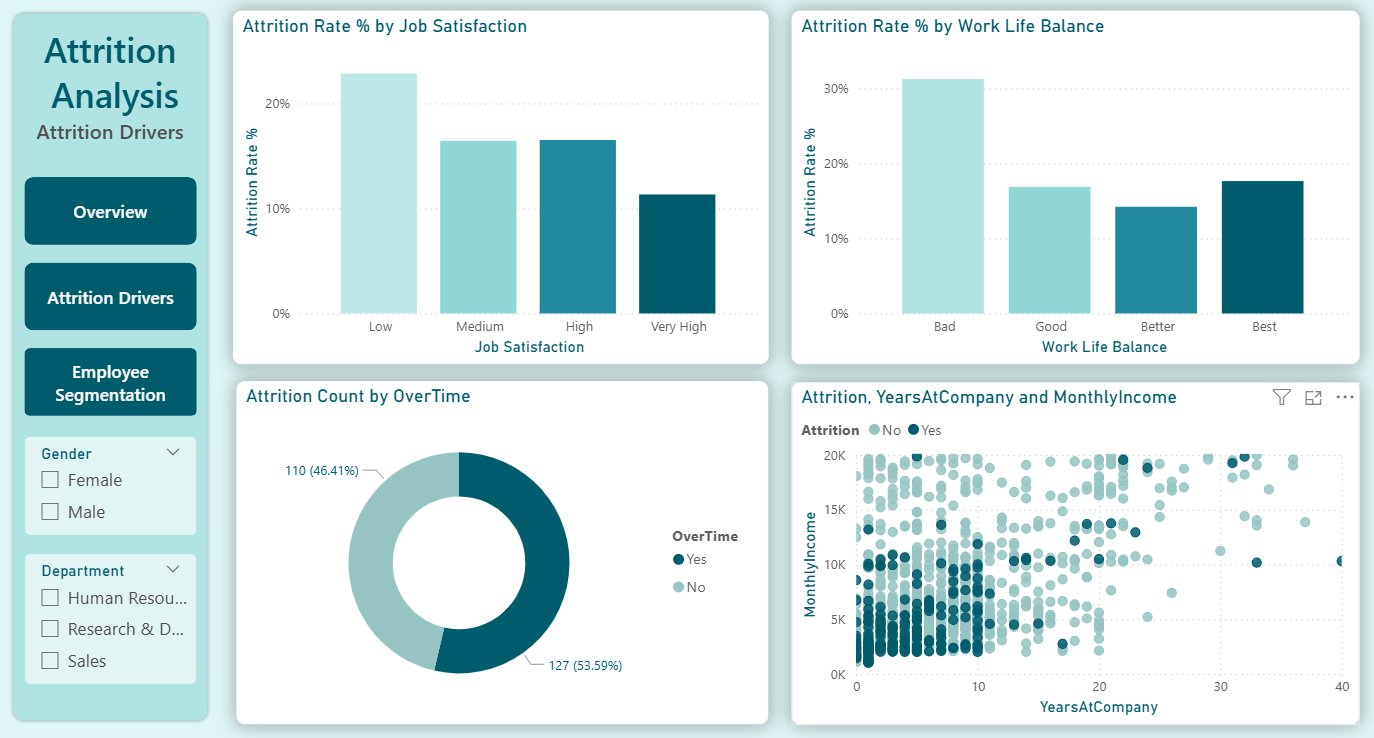

The dashboard page shown, as its layout file describes it:
{"tool":"powerbi","page":{"name":"Attrition Drivers","canvas":[1280,720],"ordinal":1},"visuals":[{"type":"shape","box":[19,34,186,658],"z":0},{"type":"clusteredColumnChart","fields":{"Category":["HR Analytics Data.Job Satisfaction Recoded"],"Y":["All measures.Attrition Rate %"]},"box":[224.3,34.3,492.9,325.7],"z":1000},{"type":"clusteredColumnChart","fields":{"Category":["HR Analytics Data.Work Life Balance Score"],"Y":["All measures.Attrition Rate %"]},"box":[738.6,34.3,522.9,325.7],"z":2000},{"type":"donutChart","fields":{"Category":["HR Analytics Data.OverTime"],"Y":["All measures.Attrition Count"]},"box":[227.9,375.7,489.3,315.7],"z":3000},{"type":"scatterChart","fields":{"Series":["HR Analytics Data.Attrition"],"X":["HR Analytics Data.YearsAtCompany"],"Y":["HR Analytics Data.MonthlyIncome"]},"box":[738.9,376.9,522.5,315],"z":4000},{"type":"textbox","box":[22.5,42.5,178.8,130],"z":5000},{"type":"actionButton","box":[32.5,187.5,158.8,62.5],"z":6000},{"type":"actionButton","box":[32.5,266.2,158.8,62.5],"z":7000},{"type":"actionButton","box":[32.5,345,158.8,62.5],"z":8000},{"type":"slicer","fields":{"Values":["HR Analytics Data.Gender"]},"box":[32.5,426.2,158.8,92.5],"z":9000},{"type":"slicer","fields":{"Values":["HR Analytics Data.Department"]},"box":[32.5,533.8,158.8,121.2],"z":10000}]}

Visuals, with their boxes on the page's 1280x720 design canvas (x1, y1, x2, y2). These are canvas units, not pixel positions in the 1374x738 screenshot, which may show the page scaled, cropped or inside an application window:
shape: {"x1": 19, "y1": 34, "x2": 205, "y2": 692}
clusteredColumnChart - HR Analytics Data.Job Satisfaction Recoded x All measures.Attrition Rate %: {"x1": 224, "y1": 34, "x2": 717, "y2": 360}
clusteredColumnChart - HR Analytics Data.Work Life Balance Score x All measures.Attrition Rate %: {"x1": 739, "y1": 34, "x2": 1262, "y2": 360}
donutChart - HR Analytics Data.OverTime x All measures.Attrition Count: {"x1": 228, "y1": 376, "x2": 717, "y2": 691}
scatterChart - HR Analytics Data.Attrition x HR Analytics Data.YearsAtCompany: {"x1": 739, "y1": 377, "x2": 1261, "y2": 692}
textbox: {"x1": 22, "y1": 42, "x2": 201, "y2": 172}
actionButton: {"x1": 32, "y1": 188, "x2": 191, "y2": 250}
actionButton: {"x1": 32, "y1": 266, "x2": 191, "y2": 329}
actionButton: {"x1": 32, "y1": 345, "x2": 191, "y2": 408}
slicer - HR Analytics Data.Gender: {"x1": 32, "y1": 426, "x2": 191, "y2": 519}
slicer - HR Analytics Data.Department: {"x1": 32, "y1": 534, "x2": 191, "y2": 655}
